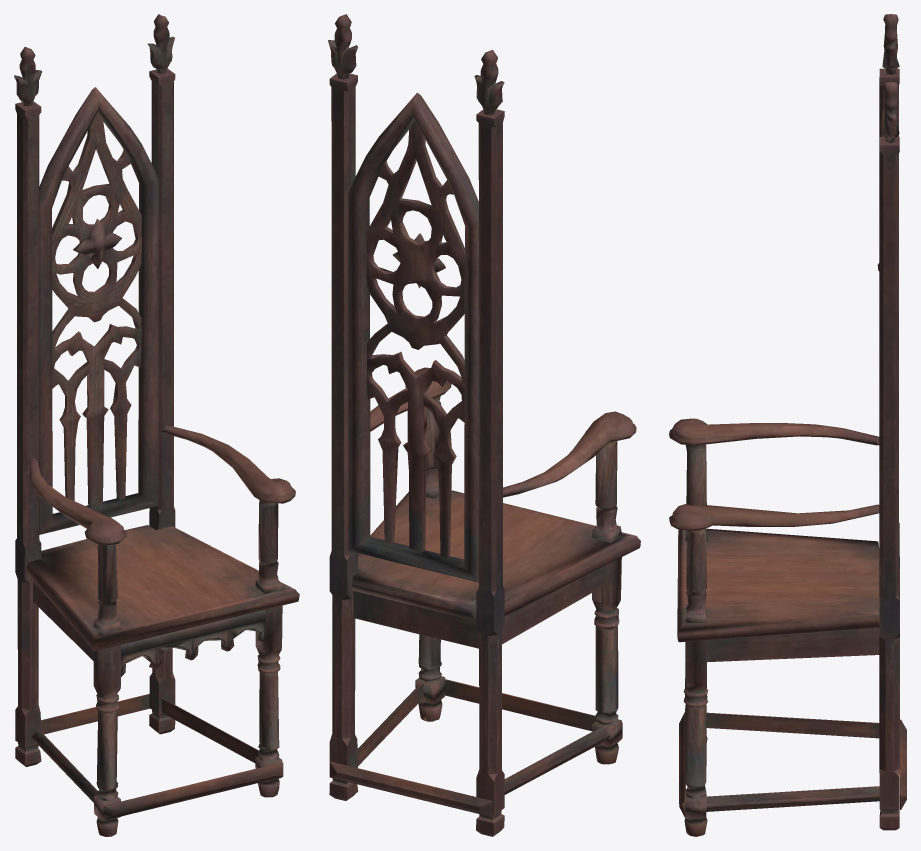
The model's file is WoodenChair_01_lod1.glb.
The picture shows the model from 3 angles, left to right: view 1: azimuth 30°, elevation 25°; view 2: azimuth 150°, elevation 25°; view 3: azimuth 270°, elevation 25°; orthographic projection. The views are drawn at different scales.
Parts seen in each view (by area): view 1: WoodenChair_01; view 2: WoodenChair_01; view 3: WoodenChair_01.
Part boxes in pixels (x1,y1,x2,y2): WoodenChair_01: [14, 14, 299, 836]; WoodenChair_01: [328, 14, 640, 836]; WoodenChair_01: [669, 14, 906, 836].
Bounding box in the file's own units: 0.6872 × 2.27 × 0.6575.
Materials: 1 (1 with a texture image).
